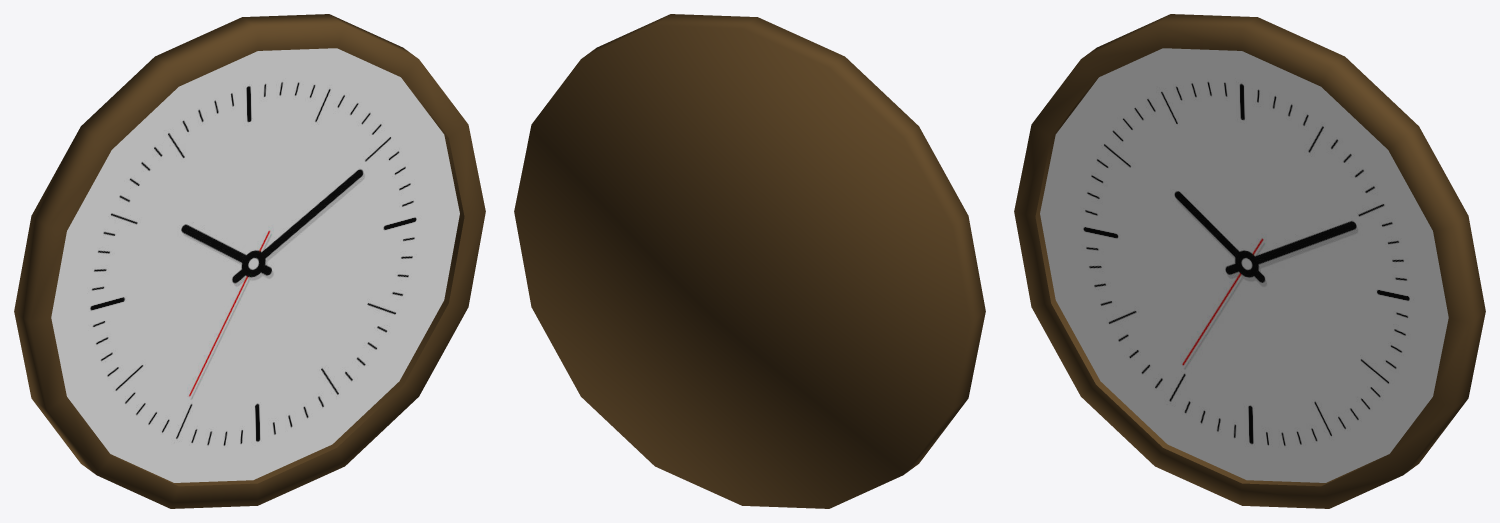
Rendered from Relogio.fbx.
3 views of the same model, side by side, from view 1: azimuth 30°, elevation 25°; view 2: azimuth 150°, elevation 25°; view 3: azimuth 330°, elevation 25° (orthographic).
Parts seen in each view (by area): view 1: Desenho, Relogio; view 2: Relogio; view 3: Desenho, Relogio.
Part boxes in pixels (x1=…): Desenho: x1=51, y1=48, x2=459, y2=482; Relogio: x1=14, y1=14, x2=485, y2=508; Relogio: x1=514, y1=14, x2=985, y2=508; Desenho: x1=1040, y1=48, x2=1448, y2=482; Relogio: x1=1014, y1=14, x2=1485, y2=508.
Bounding box in the file's own units: 44.82 × 44.82 × 2.69.
Materials: 2 (1 with a texture image).
